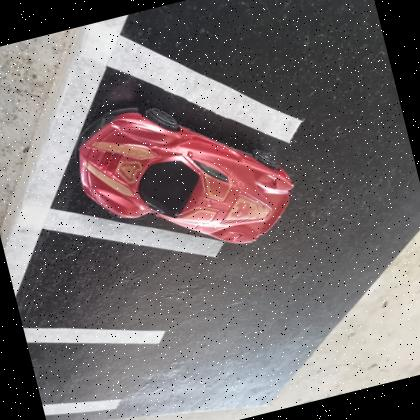Car: (76, 98, 294, 243)
